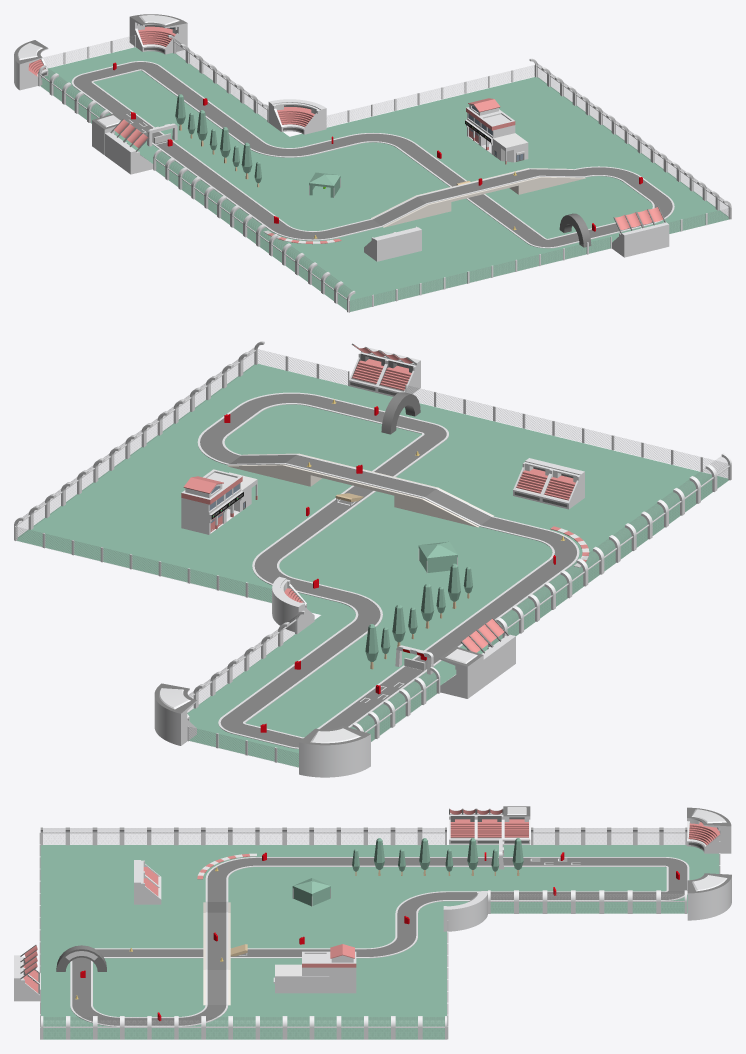
Rendered from map1.glb.
3 renders of one model, top to bottom at view 1: azimuth 30°, elevation 25°; view 2: azimuth 150°, elevation 25°; view 3: azimuth 270°, elevation 25°, orthographic. The views are drawn at different scales.
Visible parts, largest first — view 1: grass(Clone).005, grass(Clone).002, fenceCurved(Clone), grass(Clone).001, fenceCurved(Clone).001, grass(Clone).004, fenceStraight(Clone), grandStandCoveredRound(Clone).001, grass(Clone).003, fenceStraight(Clone).001, grandStandRound(Clone), fenceCurved(Clone).002 (+41 smaller); view 2: grass(Clone).005, grass(Clone).002, fenceCurved(Clone), fenceCurved(Clone).001, grass(Clone).004, grass(Clone).001, grandStandCoveredRound(Clone), fenceStraight(Clone), fenceStraight(Clone).001, grass(Clone).003, fenceCurved(Clone).003, grandStandCoveredRound(Clone).001 (+40 smaller); view 3: grass(Clone).005, grass(Clone).002, fenceCurved(Clone).001, fenceCurved(Clone), grass(Clone).001, fenceCurved(Clone).002, fenceCurved(Clone).003, grass(Clone).004, grandStandCoveredRound(Clone).001, grandStandCoveredRound(Clone), grass(Clone).003, grandStandRound(Clone) (+37 smaller).
Part boxes in pixels (bbox=[...]): grass(Clone).005: bbox=[156, 77, 729, 311]; grass(Clone).002: bbox=[96, 71, 338, 230]; fenceCurved(Clone): bbox=[153, 149, 355, 312]; grass(Clone).001: bbox=[41, 70, 303, 262]; fenceCurved(Clone).001: bbox=[529, 58, 731, 219]; grass(Clone).004: bbox=[149, 51, 302, 147]; fenceStraight(Clone): bbox=[349, 236, 611, 312]; grandStandCoveredRound(Clone).001: bbox=[129, 14, 187, 54]; grass(Clone).003: bbox=[41, 47, 184, 92]; fenceStraight(Clone).001: bbox=[327, 65, 534, 126]; grandStandRound(Clone): bbox=[268, 99, 326, 134]; fenceCurved(Clone).002: bbox=[168, 35, 268, 122]; grass(Clone).005: bbox=[17, 364, 728, 653]; grass(Clone).002: bbox=[248, 534, 537, 736]; fenceCurved(Clone): bbox=[488, 453, 731, 647]; fenceCurved(Clone).001: bbox=[14, 341, 264, 540]; grass(Clone).004: bbox=[192, 615, 350, 716]; grass(Clone).001: bbox=[352, 534, 644, 741]; grandStandCoveredRound(Clone): bbox=[299, 725, 370, 777]; fenceStraight(Clone): bbox=[405, 384, 727, 477]; fenceStraight(Clone).001: bbox=[14, 526, 271, 602]; grass(Clone).003: bbox=[187, 710, 302, 767]; fenceCurved(Clone).003: bbox=[351, 667, 440, 741]; grandStandCoveredRound(Clone).001: bbox=[154, 683, 197, 745]; grass(Clone).005: bbox=[40, 845, 446, 1039]; grass(Clone).002: bbox=[228, 868, 664, 890]; fenceCurved(Clone).001: bbox=[41, 1016, 447, 1039]; fenceCurved(Clone): bbox=[40, 827, 446, 845]; grass(Clone).001: bbox=[182, 845, 717, 856]; fenceCurved(Clone).002: bbox=[488, 890, 686, 913]; fenceCurved(Clone).003: bbox=[531, 827, 687, 845]; grass(Clone).004: bbox=[418, 902, 664, 913]; grandStandCoveredRound(Clone).001: bbox=[687, 873, 731, 920]; grandStandCoveredRound(Clone): bbox=[687, 807, 731, 853]; grass(Clone).003: bbox=[665, 845, 719, 913]; grandStandRound(Clone): bbox=[443, 891, 487, 931].
Size of what is drawn, in the model's own units: 144 by 13.13 by 212.
101 materials, 8 textured.
